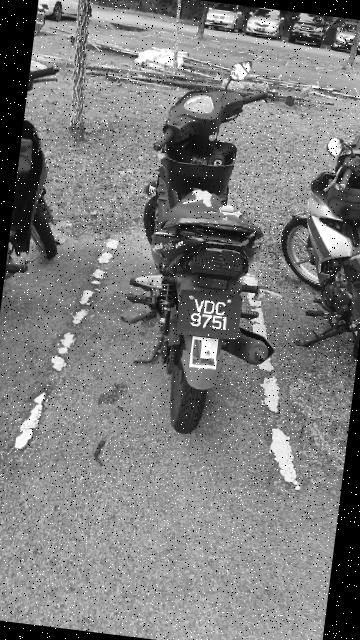License_Plate: (174, 288, 246, 344)
motorcycle: (97, 53, 320, 446), (269, 107, 360, 368)
